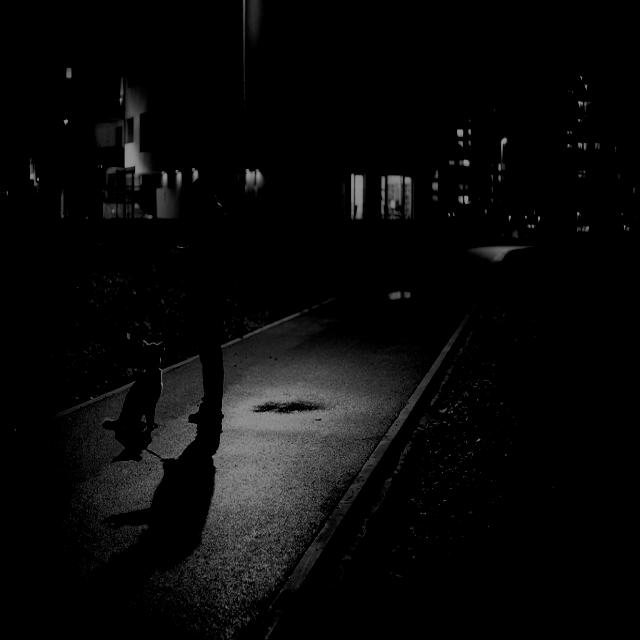Dog: (100, 342, 170, 439)
